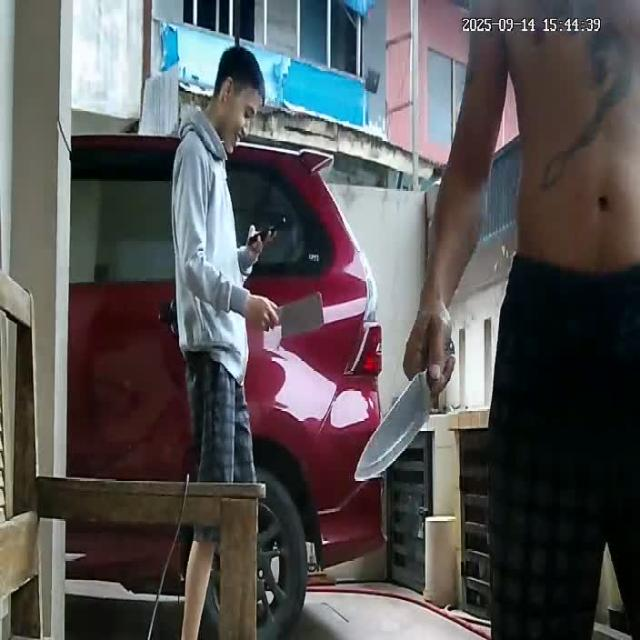senjata_tajam: (351, 371, 434, 483), (278, 290, 328, 338)
